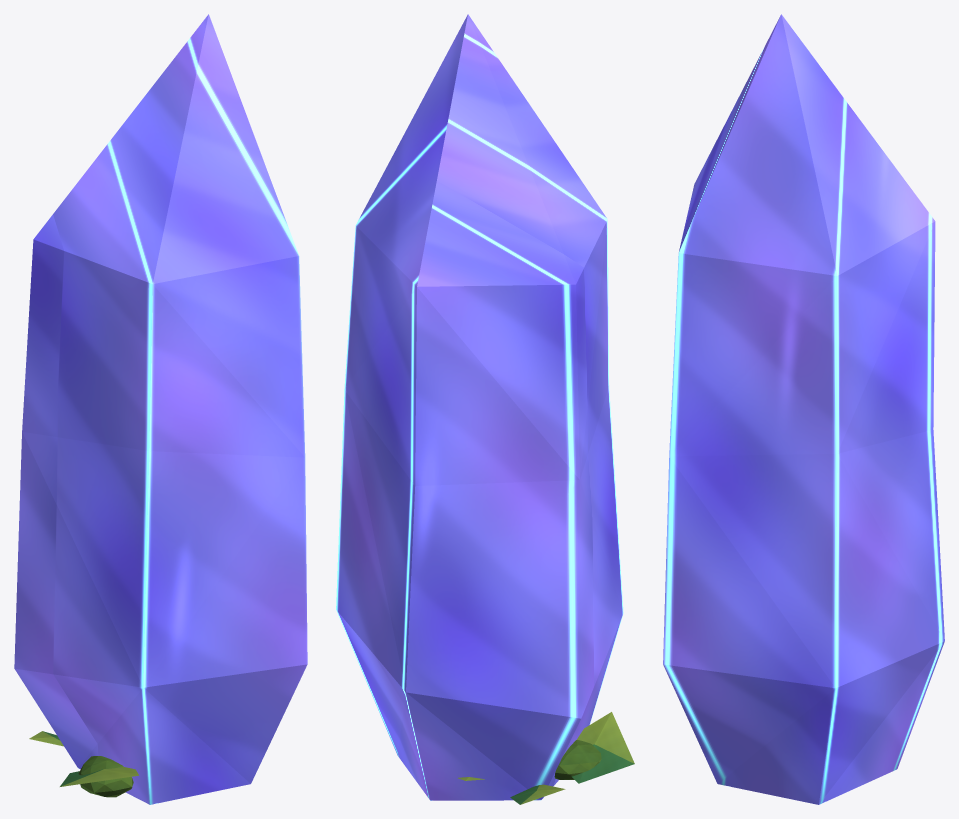
The model's file is forest_crystal_purple.glb.
3 views of the same model, side by side, from view 1: azimuth 30°, elevation 25°; view 2: azimuth 150°, elevation 25°; view 3: azimuth 270°, elevation 25° (orthographic). The views are drawn at different scales.
Parts seen in each view (by area): view 1: Faceted magical crystal.001, Woodland shared moss cushion.016, Woodland shared curved ivy leaf.025; view 2: Faceted magical crystal.001, Woodland shared curved ivy leaf.025, Woodland shared moss cushion.016, Woodland shared curved ivy leaf.027; view 3: Faceted magical crystal.001.
Boxes of the visible parts, <box> form: Faceted magical crystal.001: <box>14,14,307,804</box>; Woodland shared moss cushion.016: <box>78,756,133,797</box>; Woodland shared curved ivy leaf.025: <box>60,767,138,786</box>; Faceted magical crystal.001: <box>336,14,623,800</box>; Woodland shared curved ivy leaf.025: <box>571,712,634,783</box>; Woodland shared moss cushion.016: <box>554,740,601,779</box>; Woodland shared curved ivy leaf.027: <box>510,784,565,804</box>; Faceted magical crystal.001: <box>663,14,944,804</box>.
Bounding box in the file's own units: 0.6088 × 1.64 × 0.548.
Materials: 5 (5 with a texture image).
